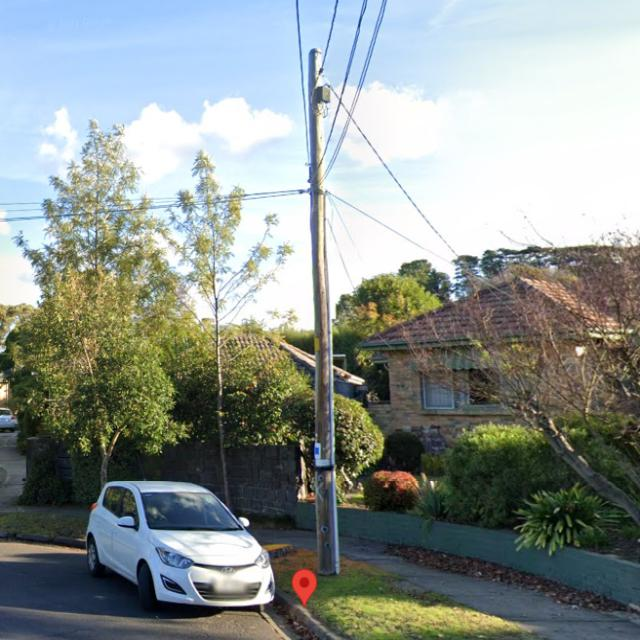timber-pole: (307, 47, 338, 577)
top mount suitable pole: (306, 46, 339, 577), (307, 46, 339, 576)
